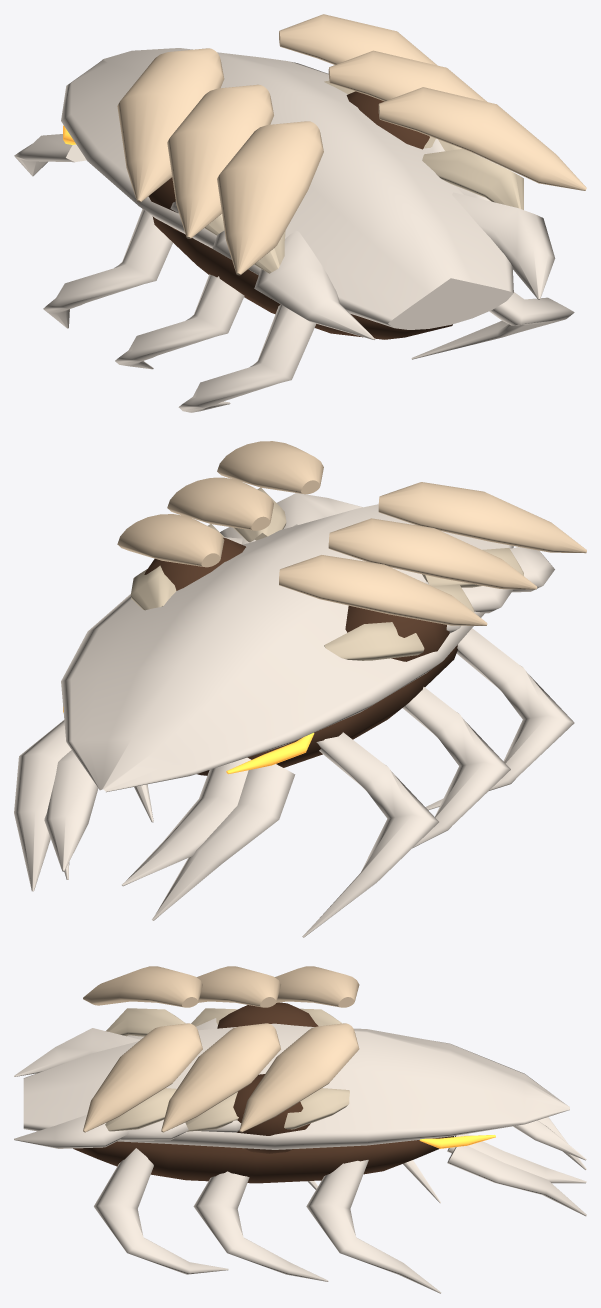
File: transporter_shell.glb
3 views of the same model, one above another, from view 1: azimuth 30°, elevation 25°; view 2: azimuth 150°, elevation 25°; view 3: azimuth 270°, elevation 25° (orthographic). The views are drawn at different scales.
Visible parts, largest first — view 1: transporter_shell; view 2: transporter_shell; view 3: transporter_shell.
Part boxes in pixels (box(x1,y1,x2,y2)): transporter_shell: box(14, 14, 586, 412); transporter_shell: box(14, 441, 586, 937); transporter_shell: box(14, 966, 586, 1293).
Size of the model in its own units: 1.5 by 1.18 by 2.49.
